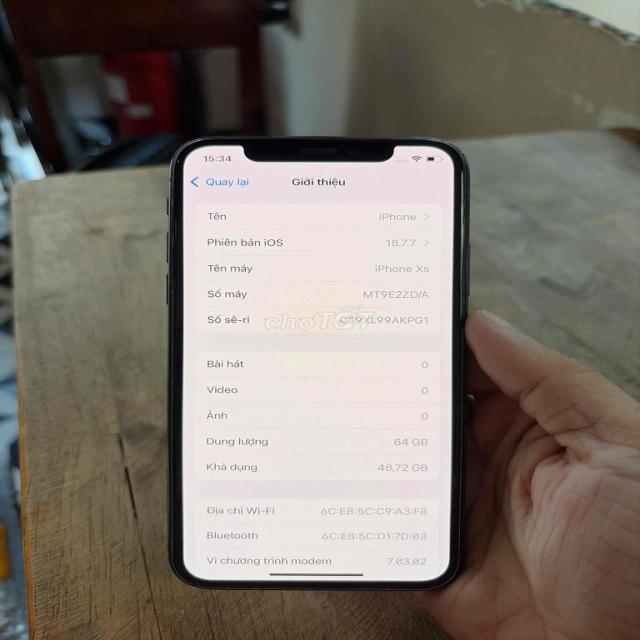scratch: (164, 152, 192, 172)
